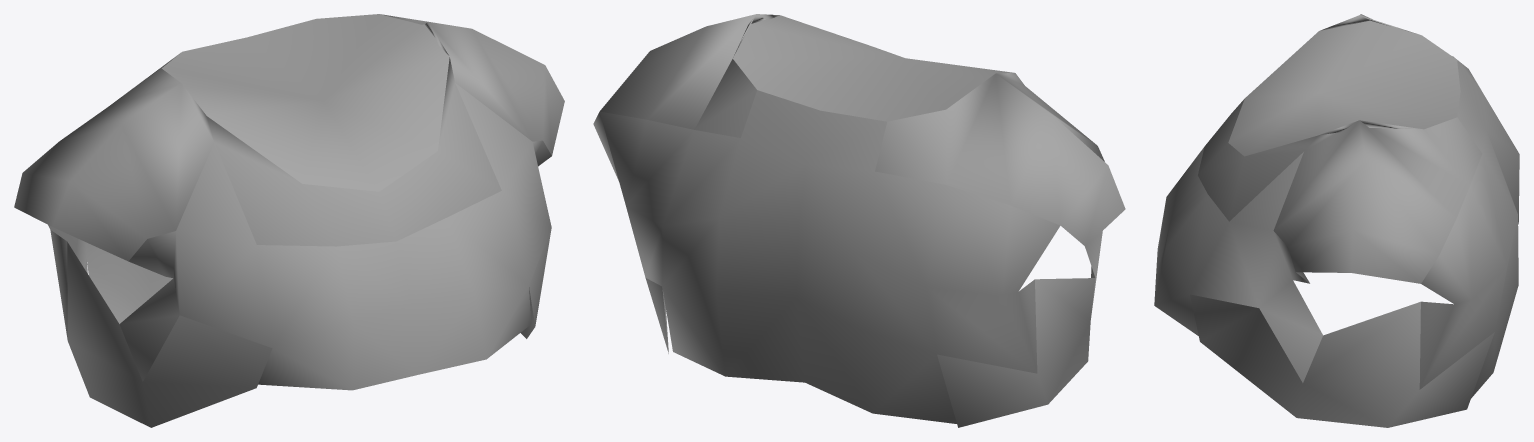
File: spine2.glb
3 renders of one model, left to right at view 1: azimuth 30°, elevation 25°; view 2: azimuth 150°, elevation 25°; view 3: azimuth 270°, elevation 25°, orthographic. The views are drawn at different scales.
Visible parts, largest first — view 1: sweater-grey_SPINE2; view 2: sweater-grey_SPINE2; view 3: sweater-grey_SPINE2.
Part boxes in pixels (bbox=[...]): sweater-grey_SPINE2: bbox=[14, 14, 564, 427]; sweater-grey_SPINE2: bbox=[593, 14, 1125, 427]; sweater-grey_SPINE2: bbox=[1154, 14, 1519, 427].
Size of the model in its own units: 0.4746 by 0.2791 by 0.3328.
Materials: 1 (1 with a texture image).
